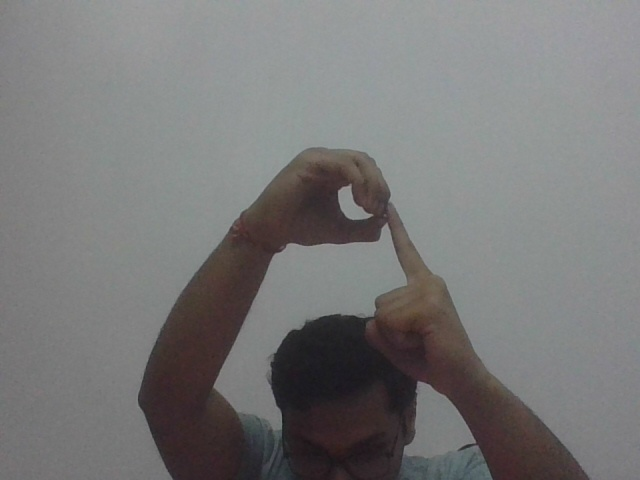P: (289, 141, 459, 330)
